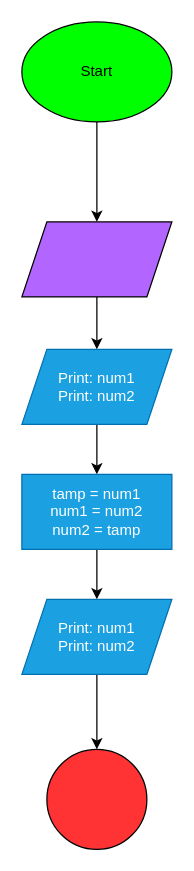
Image size: 194x871. Some labels were removed from this diagram. The shapes that lost their labels are listed below. From the top down, each one's centre as x and y in pixels, then its label:
At point 96,259: "Read: num1 , num2".
At point 96,798: "End".
